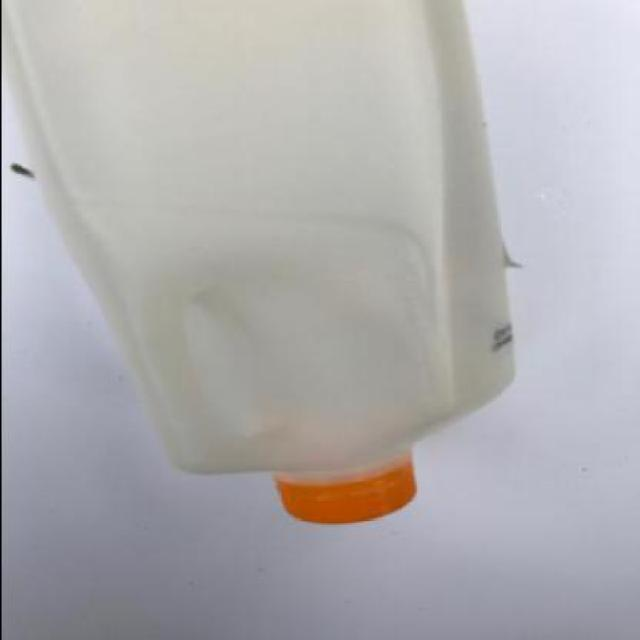PLASTIC: (0, 0, 514, 523), (269, 459, 417, 524)
